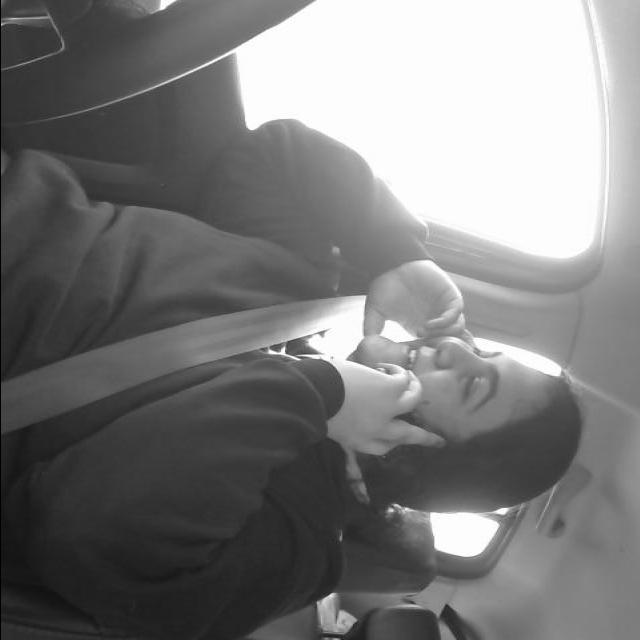mobile use: (326, 352, 441, 466)
